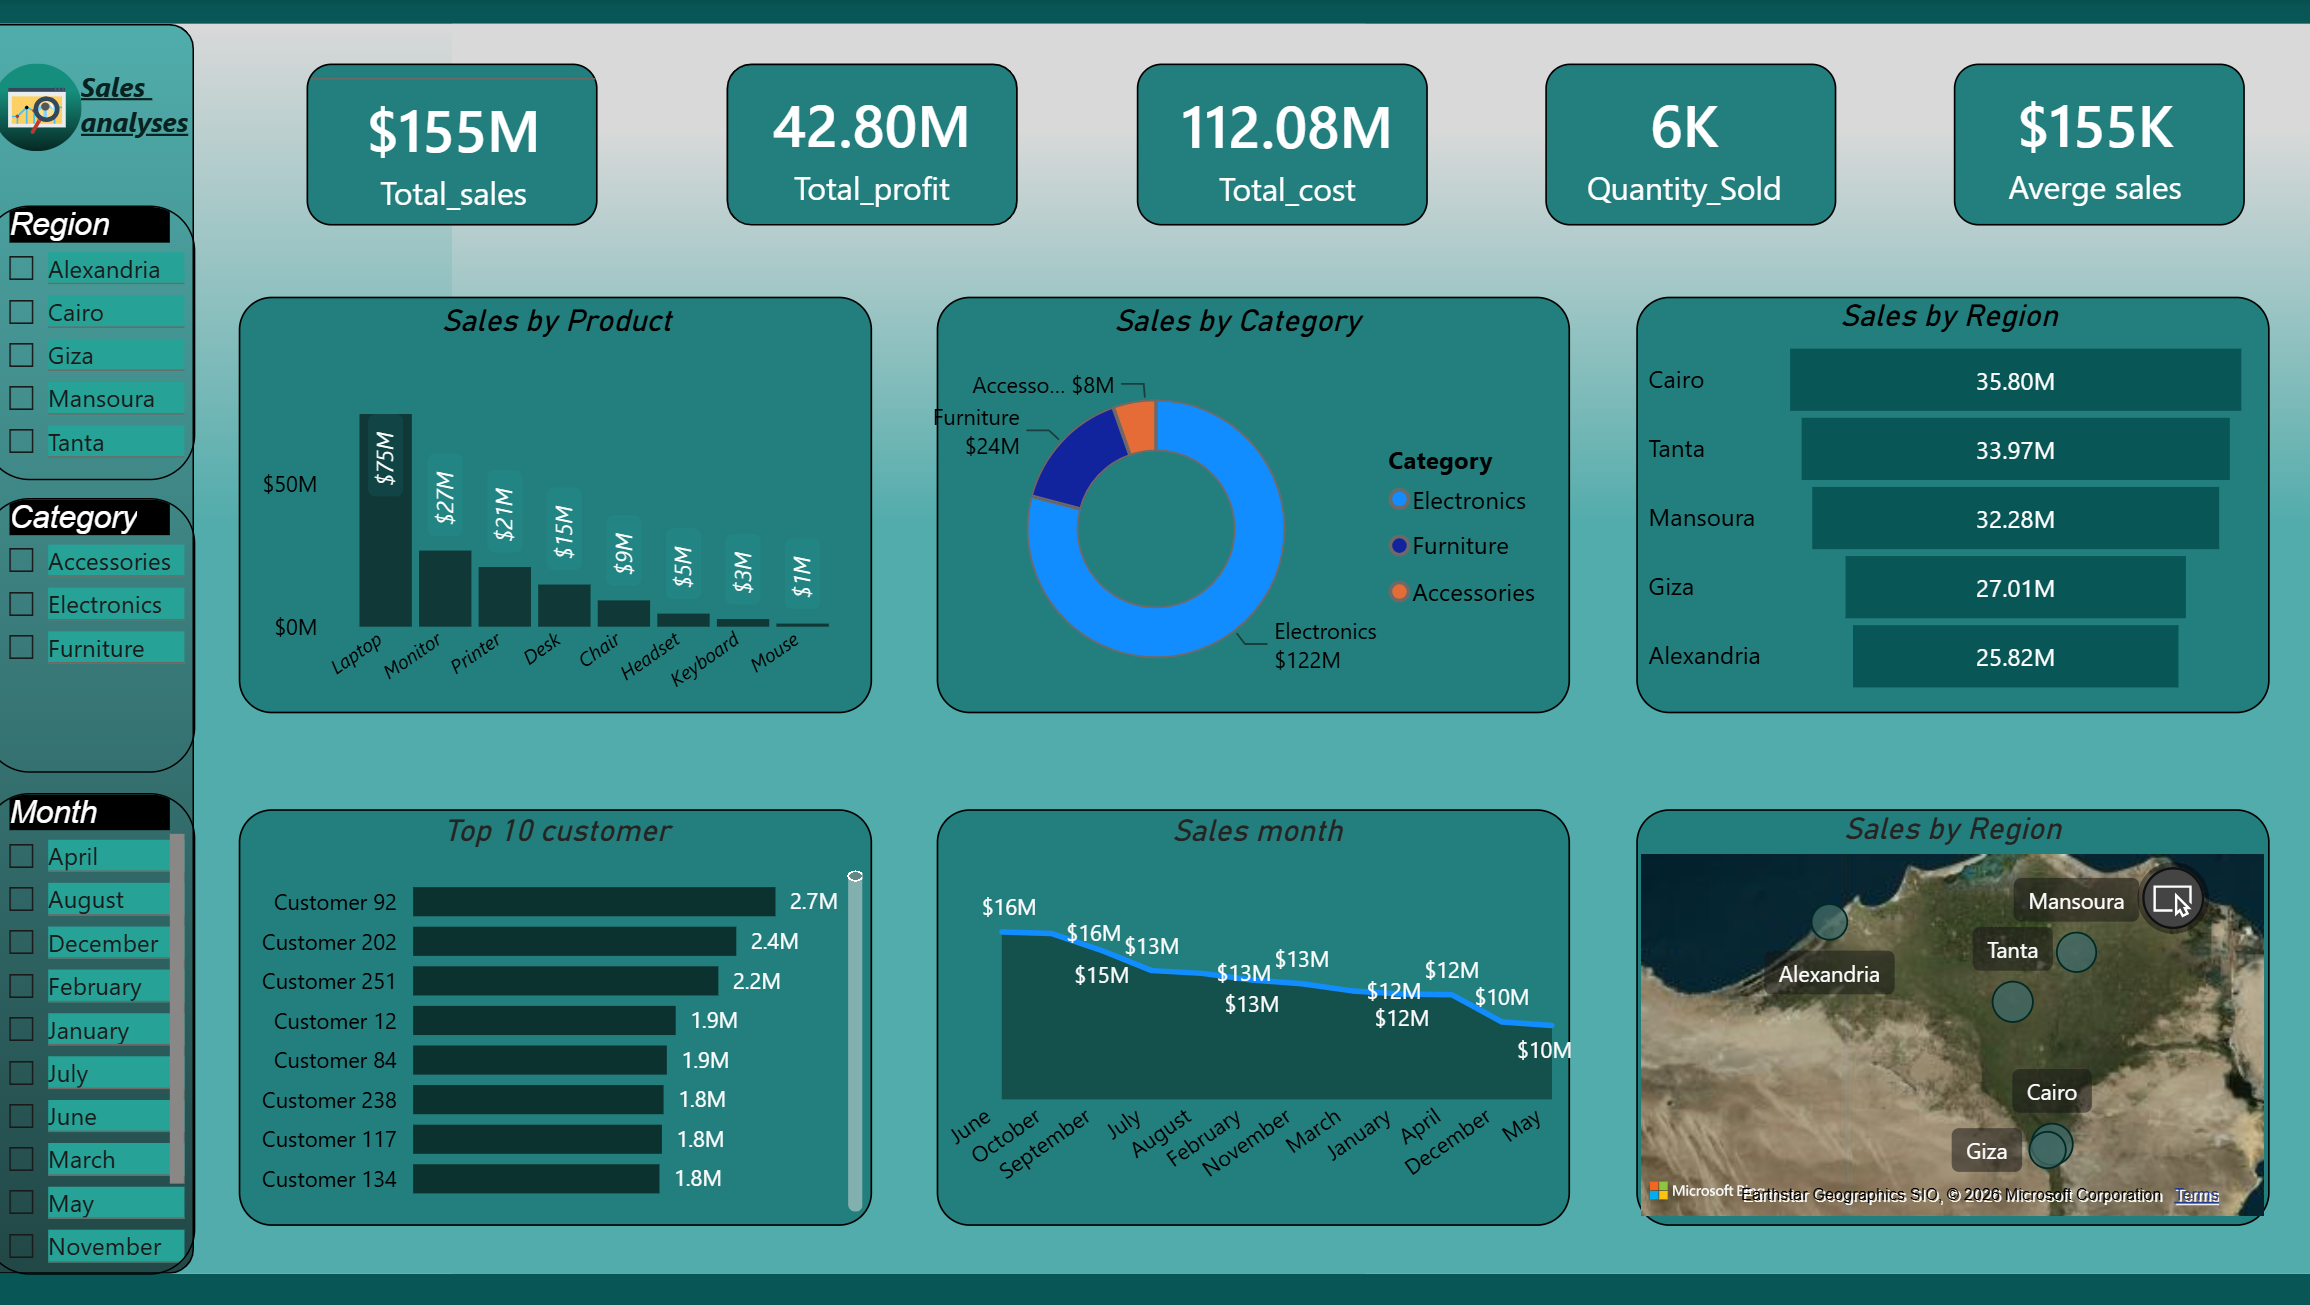

Layout of this report page (visuals, bound fields, positions):
{"tool":"powerbi","page":{"name":"Dashboard","canvas":[1280,720],"ordinal":0},"visuals":[{"type":"slicer","fields":{"Values":["Dim_Region.Region"]},"box":[0,113.4,115.8,150.8],"z":0},{"type":"slicer","fields":{"Values":["fact_sales.sales_month"]},"box":[0,436.7,115.8,264.2],"z":1000},{"type":"slicer","fields":{"Values":["Dim_Category.Category"]},"box":[0,273.9,115.8,150.8],"z":2000},{"type":"cardVisual","fields":{"Data":["fact_sales.Total_cost"]},"box":[639.5,45.3,152.3,78.2],"z":3000},{"type":"cardVisual","fields":{"Data":["Sum(fact_sales.total sales)"]},"box":[180,44,156,79],"z":4000},{"type":"cardVisual","fields":{"Data":["fact_sales.Total_profit"]},"box":[410,44.3,154.3,80],"z":5000},{"type":"cardVisual","fields":{"Data":["Avg(fact_sales.total sales)"]},"box":[1081.3,43.9,155.1,79.6],"z":6000},{"type":"cardVisual","fields":{"Data":["fact_sales.Quantity_Sold"]},"box":[855.7,44.3,154.3,80],"z":7000},{"type":"columnChart","title":" Sales by Product","fields":{"Category":["Dim_Product.Product"],"Y":["Sum(fact_sales.total sales)"]},"box":[146.8,168.1,335.1,224.5],"z":8000},{"type":"donutChart","title":" Sales by Category","fields":{"Category":["Dim_Category.Category"],"Y":["Sum(fact_sales.total sales)"]},"box":[510.6,168.1,355.3,228.7],"z":9000},{"type":"funnel","title":"Sales by Region","fields":{"Category":["Dim_Region.Region"],"Y":["fact_sales.total_sales"]},"box":[908.5,164.9,340.4,222.3],"z":10000},{"type":"clusteredBarChart","title":"Top 10 customer","fields":{"Category":["Dim_Customer.Customer Name"],"Y":["fact_sales.total_sales"]},"box":[141.3,447.3,345.8,223.7],"z":11000},{"type":"lineChart","title":"Sales month","fields":{"Category":["fact_sales.sales_month"],"Y":["Sum(fact_sales.total sales)"]},"box":[521,447,355,224],"z":12000},{"type":"map","title":" Sales by Region","fields":{"Category":["Dim_Region.Region"],"Size":["Sum(fact_sales.total sales)"]},"box":[908.6,445.7,344.3,224.3],"z":13000},{"type":"textbox","box":[48,33.3,81.3,62.7],"z":13001}]}

Visuals, with their boxes in screenshot pixels (x1, y1, x2, y2), scaled from the page's 1280x720 canvas onto the 2310x1305 screenshot:
slicer - Dim_Region.Region: [x1=0, y1=206, x2=209, y2=479]
slicer - fact_sales.sales_month: [x1=0, y1=792, x2=209, y2=1270]
slicer - Dim_Category.Category: [x1=0, y1=496, x2=209, y2=770]
cardVisual - fact_sales.Total_cost: [x1=1154, y1=82, x2=1429, y2=224]
cardVisual - Sum(fact_sales.total sales): [x1=325, y1=80, x2=606, y2=223]
cardVisual - fact_sales.Total_profit: [x1=740, y1=80, x2=1018, y2=225]
cardVisual - Avg(fact_sales.total sales): [x1=1951, y1=80, x2=2231, y2=224]
cardVisual - fact_sales.Quantity_Sold: [x1=1544, y1=80, x2=1823, y2=225]
" Sales by Product" columnChart: [x1=265, y1=305, x2=870, y2=712]
" Sales by Category" donutChart: [x1=921, y1=305, x2=1563, y2=719]
"Sales by Region" funnel: [x1=1640, y1=299, x2=2254, y2=702]
"Top 10 customer" clusteredBarChart: [x1=255, y1=811, x2=879, y2=1216]
"Sales month" lineChart: [x1=940, y1=810, x2=1581, y2=1216]
" Sales by Region" map: [x1=1640, y1=808, x2=2261, y2=1214]
textbox: [x1=87, y1=60, x2=233, y2=174]
